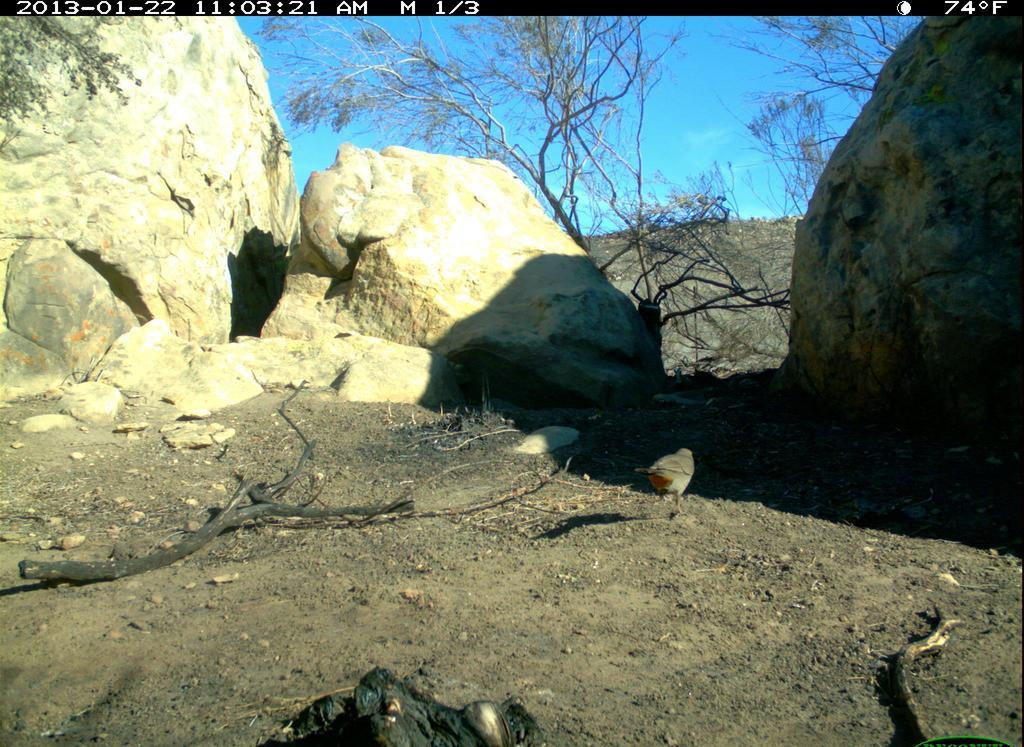bird: (632, 444, 701, 518)
